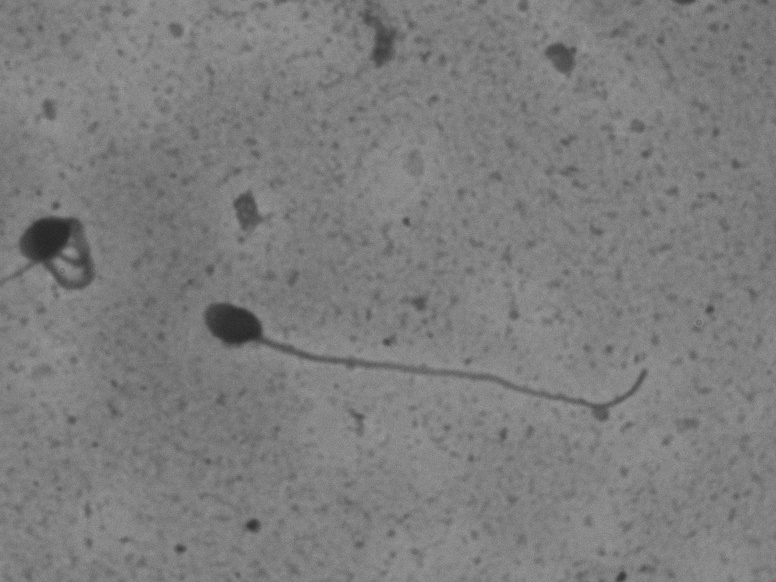Abnormal: (168, 259, 701, 464)
